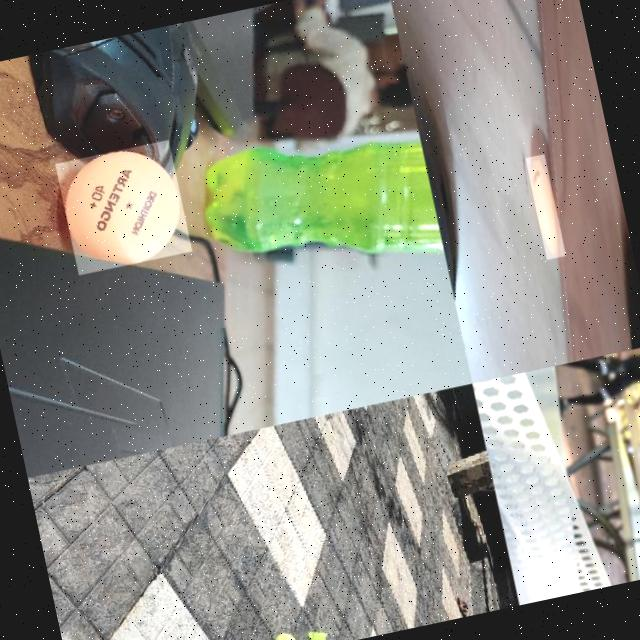ping-pong-ball: (52, 138, 190, 276), (524, 153, 564, 260)
